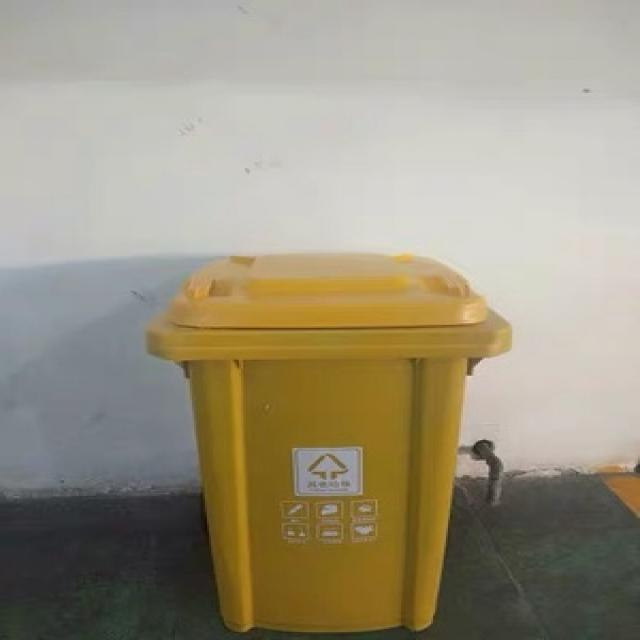ash bin: (147, 250, 514, 635)
